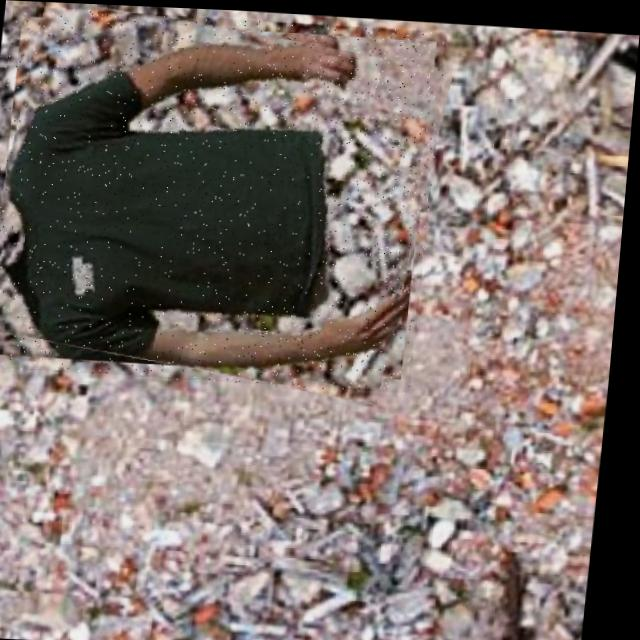Person in Rubble: (0, 4, 448, 390)
